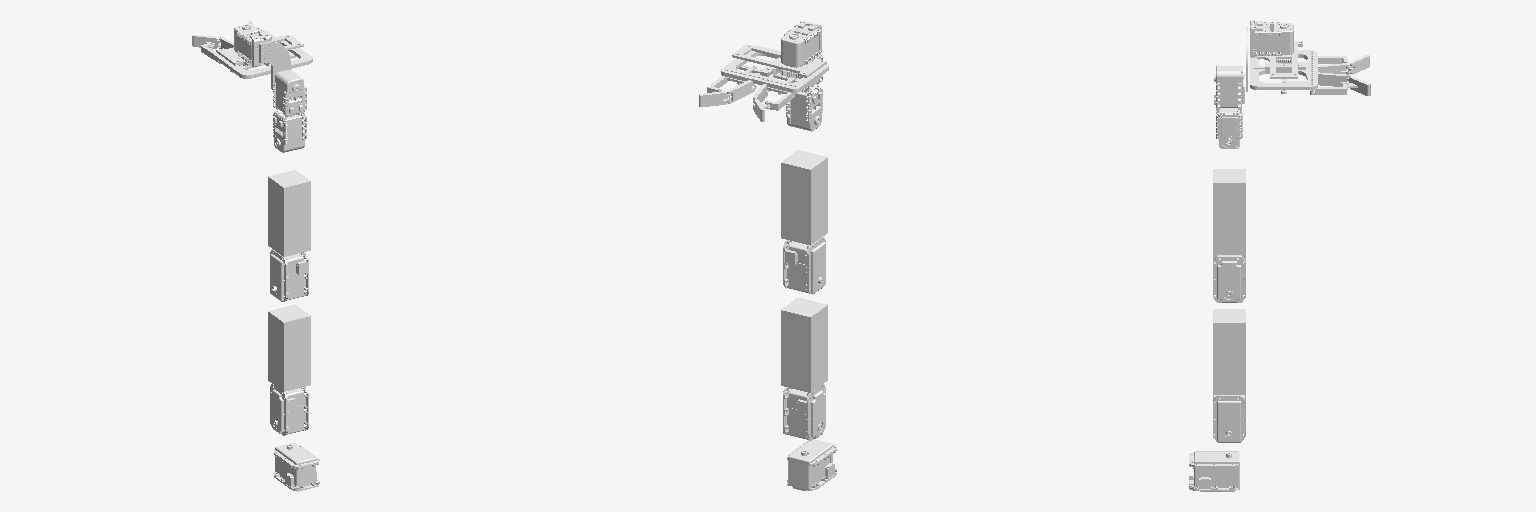
URDF robot description (mobile_manipulator):
<?xml version="1.0" ?>
<!-- =================================================================================== -->
<!-- |    This document was autogenerated by xacro from mobile_manipulator.xacro       | -->
<!-- |    EDITING THIS FILE BY HAND IS NOT RECOMMENDED                                 | -->
<!-- =================================================================================== -->
<robot name="mobile_manipulator" xmlns:xacro="http://www.ros.org/wiki/xacro">
  <material name="white">
    <color rgba="1 1 1 1"/>
  </material>
  <!-- MACROS -->
  <!-- Macros of the J plate -->
  <!-- Macros of the gripper -->
  <!-- LINKS -->
  <link name="shoulder_yaw_motor">
    <inertial>
      <origin rpy="0 0 0 " xyz="0 0 0"/>
      <mass value="0.140"/>
      <inertia ixx="0.000050799110" ixy="0.0" ixz="0.0" iyy="0.00002857215" iyz="0.00000051457" izz="0.000043394"/>
    </inertial>
    <visual>
      <origin rpy="0 0 0 " xyz="0 0 0"/>
      <geometry>
        <mesh filename="package://mobile_manipulator/meshes/dynamixel_x64series.stl" scale="0.001 0.001 0.001"/>
      </geometry>
      <material name="white"/>
    </visual>
    <collision>
      <origin rpy="0 0 0" xyz="0 0 0"/>
      <geometry>
        <box size="0.041 0.0402 0.0611"/>
      </geometry>
    </collision>
  </link>
  <link name="shoulder_bracket">
    <inertial>
      <origin rpy="0 3.14 0 " xyz="0 0 0.025"/>
      <mass value="0.00712"/>
      <inertia ixx="0.00000174511" ixy="0.0" ixz="0.0" iyy="0.00000379922" iyz="0.0" izz="0.00000357521"/>
    </inertial>
    <visual>
      <origin rpy="0 3.14 0 " xyz="0 0 0.0"/>
      <geometry>
        <mesh filename="package://mobile_manipulator/meshes/FR05-H101K.stl" scale="0.001 0.001 0.001"/>
      </geometry>
      <material name="white"/>
    </visual>
    <collision>
      <origin rpy="0 3.14 0 " xyz="0 0 0.025"/>
      <geometry>
        <mesh filename="package://mobile_manipulator/meshes/FR05-H101K.stl" scale="0.001 0.001 0.001"/>
      </geometry>
    </collision>
  </link>
  <link name="shoulder_pitch_motor">
    <inertial>
      <origin rpy="1.57 -3.14 1.57" xyz="0 0 0"/>
      <mass value="0.140"/>
      <inertia ixx="0.000050799110" ixy="0.0" ixz="0.0" iyy="0.00002857215" iyz="0.00000051457" izz="0.000043394"/>
    </inertial>
    <visual>
      <origin rpy="1.57 -3.14 1.57" xyz="0 0 0"/>
      <geometry>
        <mesh filename="package://mobile_manipulator/meshes/dynamixel_x64series.stl" scale="0.001 0.001 0.001"/>
      </geometry>
      <material name="white"/>
    </visual>
    <collision>
      <origin rpy="1.57 -3.14 1.57" xyz="0 0 0"/>
      <geometry>
        <box size="0.041 0.0402 0.0611"/>
      </geometry>
    </collision>
  </link>
  <link name="biscep">
    <inertial>
      <origin rpy="0 0 0" xyz="0 0 0.099"/>
      <mass value="0.00048"/>
      <inertia ixx="0.000050799110" ixy="0.0" ixz="0.0" iyy="0.00002857215" iyz="0.00000051457" izz="0.000043394"/>
    </inertial>
    <visual>
      <origin rpy="0 0 0" xyz="0 0 0.099"/>
      <geometry>
        <box size="0.04 0.04 0.096"/>
      </geometry>
      <material name="white"/>
    </visual>
    <collision>
      <origin rpy="0 0 0" xyz="0 0 0.099"/>
      <geometry>
        <box size="0.04 0.04 0.096"/>
      </geometry>
    </collision>
  </link>
  <link name="elbow_bracket">
    <inertial>
      <origin rpy="0 3.14 0" xyz="0 0 0.148"/>
      <mass value="0.00712"/>
      <inertia ixx="0.00000174511" ixy="0.0" ixz="0.0" iyy="0.00000379922" iyz="0.0" izz="0.00000357521"/>
    </inertial>
    <visual>
      <origin rpy="0 3.14 0" xyz="0 0 0.148"/>
      <geometry>
        <mesh filename="package://mobile_manipulator/meshes/FR05-H101K.stl" scale="0.001 0.001 0.001"/>
      </geometry>
      <material name="white"/>
    </visual>
    <collision>
      <origin rpy="0 3.14 0" xyz="0 0 0.148"/>
      <geometry>
        <mesh filename="package://mobile_manipulator/meshes/FR05-H101K.stl" scale="0.001 0.001 0.001"/>
      </geometry>
    </collision>
  </link>
  <link name="elbow_motor">
    <inertial>
      <origin rpy="1.57 0 0" xyz="0 0 0"/>
      <mass value="0.140"/>
      <inertia ixx="0.000050799110" ixy="0.0" ixz="0.0" iyy="0.00002857215" iyz="0.00000051457" izz="0.000043394"/>
    </inertial>
    <visual>
      <origin rpy="1.57 3.14 -1.57" xyz="0 0 0"/>
      <geometry>
        <mesh filename="package://mobile_manipulator/meshes/dynamixel_x64series.stl" scale="0.001 0.001 0.001"/>
      </geometry>
      <material name="white"/>
    </visual>
    <collision>
      <origin rpy="1.57 0 0" xyz="0 0 0"/>
      <geometry>
        <box size="0.041 0.0402 0.0611"/>
      </geometry>
    </collision>
  </link>
  <link name="forearm">
    <inertial>
      <origin rpy="0 0 0" xyz="0 0 0.1"/>
      <mass value="0.00048"/>
      <inertia ixx="0.000050799110" ixy="0.0" ixz="0.0" iyy="0.00002857215" iyz="0.00000051457" izz="0.000043394"/>
    </inertial>
    <visual>
      <origin rpy="0 0 0" xyz="0 0 0.1"/>
      <geometry>
        <box size="0.04 0.04 0.096"/>
      </geometry>
      <material name="white"/>
    </visual>
    <collision>
      <origin rpy="0 0 0" xyz="0 0 0.1"/>
      <geometry>
        <box size="0.04 0.04 0.096"/>
      </geometry>
    </collision>
  </link>
  <link name="wrist_bracket">
    <inertial>
      <origin rpy="1.57 0 1.57" xyz="0 0 0.202"/>
      <mass value="0.00712"/>
      <inertia ixx="0.00000174511" ixy="0.0" ixz="0.0" iyy="0.00000379922" iyz="0.0" izz="0.00000357521"/>
    </inertial>
    <visual>
      <origin rpy="1.57 0 1.57" xyz="0 0 0.202"/>
      <geometry>
        <mesh filename="package://mobile_manipulator/meshes/F4.stl" scale="0.001 0.001 0.001"/>
      </geometry>
      <material name="white"/>
    </visual>
    <collision>
      <origin rpy="1.57 0 1.57" xyz="0 0 0.202"/>
      <geometry>
        <mesh filename="package://mobile_manipulator/meshes/F4.stl" scale="0.001 0.001 0.001"/>
      </geometry>
    </collision>
  </link>
  <link name="wrist_pitch_motor">
    <inertial>
      <origin rpy="-1.57 0 -1.57" xyz="0 0 0"/>
      <mass value="0.05573"/>
      <inertia ixx="0.00001611154" ixy="0.00000001397" ixz="0.0" iyy="0.00000888743" iyz="0.00000015948" izz="0.00001354172"/>
    </inertial>
    <visual>
      <origin rpy="-1.57 0 -1.57" xyz="0 0 0"/>
      <geometry>
        <mesh filename="package://mobile_manipulator/meshes/AX-12_18A - dynamixel_AXseries-1.stl" scale="0.001 0.001 0.001"/>
      </geometry>
      <material name="white"/>
    </visual>
    <collision>
      <origin rpy="-1.57 0 -1.57" xyz="0 0 0"/>
      <geometry>
        <box size="0.032 0.04 0.05"/>
      </geometry>
    </collision>
  </link>
  <link name="wrist_roll_motor">
    <inertial>
      <origin rpy="-1.57 3.14 0" xyz="0 0 0.078"/>
      <mass value="0.05573"/>
      <inertia ixx="0.00001611154" ixy="0.00000001397" ixz="0.0" iyy="0.00000888743" iyz="0.00000015948" izz="0.00001354172"/>
    </inertial>
    <visual>
      <origin rpy="-1.57 3.14 0" xyz="0 0 0.078"/>
      <geometry>
        <mesh filename="package://mobile_manipulator/meshes/AX-12_18A - dynamixel_AXseries-1.stl" scale="0.001 0.001 0.001"/>
      </geometry>
      <material name="white"/>
    </visual>
    <collision>
      <origin rpy="-1.57 3.14 0" xyz="0 0 0.078"/>
      <geometry>
        <box size="0.032 0.04 0.05"/>
      </geometry>
    </collision>
  </link>
  <link name="roll_j_plate">
    <inertial>
      <origin rpy="0 0 0" xyz="0 0 0"/>
      <mass value="0.140"/>
      <inertia ixx="0.000050799110" ixy="0.0" ixz="0.0" iyy="0.00002857215" iyz="0.00000051457" izz="0.000043394"/>
    </inertial>
    <visual>
      <origin rpy="0 1.57 3.14" xyz="0 0.021 0.048"/>
      <geometry>
        <mesh filename="package://mobile_manipulator/meshes/gripper_Centering.stl" scale="0.001 0.001 0.001"/>
      </geometry>
      <material name="white"/>
    </visual>
    <collision>
      <origin rpy="0 0 0" xyz="0 0 0"/>
      <geometry>
        <mesh filename="package://mobile_manipulator/meshes/gripper_Centering.stl" scale="0.001 0.001 0.001"/>
      </geometry>
    </collision>
  </link>
  <link name="gripper">
    <inertial>
      <origin rpy="0 0 0" xyz="0 0 0"/>
      <mass value="0.140"/>
      <inertia ixx="0.000050799110" ixy="0.0" ixz="0.0" iyy="0.00002857215" iyz="0.00000051457" izz="0.000043394"/>
    </inertial>
    <visual>
      <origin rpy="0 0 1.57" xyz="-0.069 -0.016 0.004"/>
      <geometry>
        <mesh filename="package://mobile_manipulator/meshes/gripper.stl" scale="0.001 0.001 0.001"/>
      </geometry>
      <material name="white"/>
    </visual>
    <collision>
      <origin rpy="0 0 0" xyz="0 0 0"/>
      <geometry>
        <mesh filename="package://mobile_manipulator/meshes/gripper.stl" scale="0.001 0.001 0.001"/>
      </geometry>
    </collision>
  </link>
  <joint name="shoulder_yaw" type="revolute">
    <origin rpy="0 0 0" xyz="0 0 0.025"/>
    <parent link="shoulder_yaw_motor"/>
    <child link="shoulder_bracket"/>
    <axis xyz="0 0 1"/>
    <limit effort="30" lower="-3.0357" upper="3.24426" velocity="1.0"/>
  </joint>
  <joint name="shoulder_pitch" type="revolute">
    <origin rpy="0 0 0" xyz="0 0 0.035"/>
    <parent link="shoulder_bracket"/>
    <child link="shoulder_pitch_motor"/>
    <axis xyz="1 0 0"/>
    <limit effort="30" lower="-1.973232422" upper="1.916503906" velocity="1.0"/>
  </joint>
  <joint name="s1_l2" type="fixed">
    <parent link="shoulder_pitch_motor"/>
    <child link="biscep"/>
  </joint>
  <joint name="l2_l2B" type="fixed">
    <parent link="biscep"/>
    <child link="elbow_bracket"/>
  </joint>
  <joint name="elbow" type="revolute">
    <origin rpy="0 0 0" xyz="0 0 0.186"/>
    <parent link="elbow_bracket"/>
    <child link="elbow_motor"/>
    <axis xyz="1 0 0"/>
    <limit effort="30" lower="-1.99" upper="1.971699219" velocity="1.0"/>
  </joint>
  <joint name="e_l3" type="fixed">
    <parent link="elbow_motor"/>
    <child link="forearm"/>
  </joint>
  <joint name="l3_l3B" type="fixed">
    <parent link="forearm"/>
    <child link="wrist_bracket"/>
  </joint>
  <joint name="wrist_pitch" type="revolute">
    <origin rpy="0 0 0" xyz="0 0 0.202"/>
    <parent link="wrist_bracket"/>
    <child link="wrist_pitch_motor"/>
    <axis xyz="1 0 0"/>
    <limit effort="30" lower="-2.36344086" upper="2.368556533" velocity="1.0"/>
  </joint>
  <joint name="WP_WR" type="fixed">
    <parent link="wrist_pitch_motor"/>
    <child link="wrist_roll_motor"/>
  </joint>
  <joint name="wrist_roll" type="revolute">
    <origin rpy="0 0 -1.57" xyz="0 0.02 0.082"/>
    <parent link="wrist_roll_motor"/>
    <child link="roll_j_plate"/>
    <axis xyz="1 0 0"/>
    <limit effort="30" lower="-3.14" upper="+3.14" velocity="1.0"/>
  </joint>
  <joint name="roll_plate_gripper" type="fixed">
    <parent link="roll_j_plate"/>
    <child link="gripper"/>
  </joint>
</robot>

--- What the picture shows (computed from the rendered views, not written in the file) ---
3 views of the same robot in one strip: view 1: azimuth 30°, elevation 25°; view 2: azimuth 150°, elevation 25°; view 3: azimuth 270°, elevation 25° (orthographic).
Robot: mobile_manipulator — 12 links, 11 joints (5 revolute, 6 fixed); root link shoulder_yaw_motor; default pose: all joints at 0.
Links seen in each view (by area): view 1: forearm, biscep, gripper, elbow_motor, shoulder_yaw_motor, shoulder_pitch_motor, wrist_roll_motor, wrist_pitch_motor, roll_j_plate; view 2: gripper, biscep, forearm, elbow_motor, shoulder_yaw_motor, shoulder_pitch_motor, wrist_pitch_motor; view 3: gripper, biscep, forearm, shoulder_yaw_motor, elbow_motor, shoulder_pitch_motor, wrist_roll_motor, wrist_pitch_motor.
Boxes of the visible links, <box> form: forearm: <box>268,170,310,256</box>; biscep: <box>268,304,310,391</box>; gripper: <box>192,20,312,78</box>; elbow_motor: <box>270,249,308,301</box>; shoulder_yaw_motor: <box>274,443,319,491</box>; shoulder_pitch_motor: <box>270,384,308,435</box>; wrist_roll_motor: <box>273,70,306,116</box>; wrist_pitch_motor: <box>273,111,306,152</box>; roll_j_plate: <box>259,41,290,89</box>; gripper: <box>699,21,828,121</box>; biscep: <box>781,297,827,392</box>; forearm: <box>781,150,827,245</box>; elbow_motor: <box>783,237,825,294</box>; shoulder_yaw_motor: <box>787,439,836,490</box>; shoulder_pitch_motor: <box>783,384,825,440</box>; wrist_pitch_motor: <box>786,85,822,131</box>; gripper: <box>1250,20,1370,95</box>; biscep: <box>1213,309,1245,394</box>; forearm: <box>1213,169,1245,254</box>; shoulder_yaw_motor: <box>1189,451,1239,491</box>; elbow_motor: <box>1213,255,1245,302</box>; shoulder_pitch_motor: <box>1213,395,1245,442</box>; wrist_roll_motor: <box>1214,66,1244,109</box>; wrist_pitch_motor: <box>1216,108,1242,148</box>.
Bounding box of the posed robot: 0.1066 × 0.2189 × 0.6062 m (x, y, z).
Meshes: 6 distinct files referenced, 7 mesh visuals loaded (4 binary STL); not drawn: 3 (reference not matched to a file when rendering).